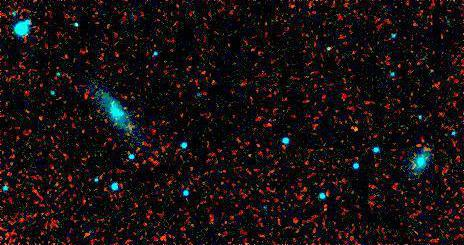star: (342, 117, 372, 147)
